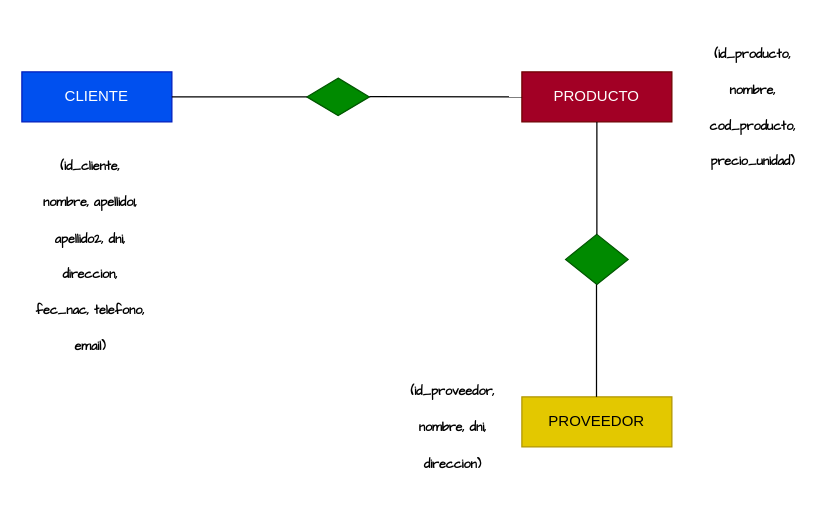
Some shapes in this 831 by 509 pixel diagram are drawn without their labels. The centre of each missing label's shape, as x and y in pixels:
compra: the point at 337,96
suministra: the point at 596,258
